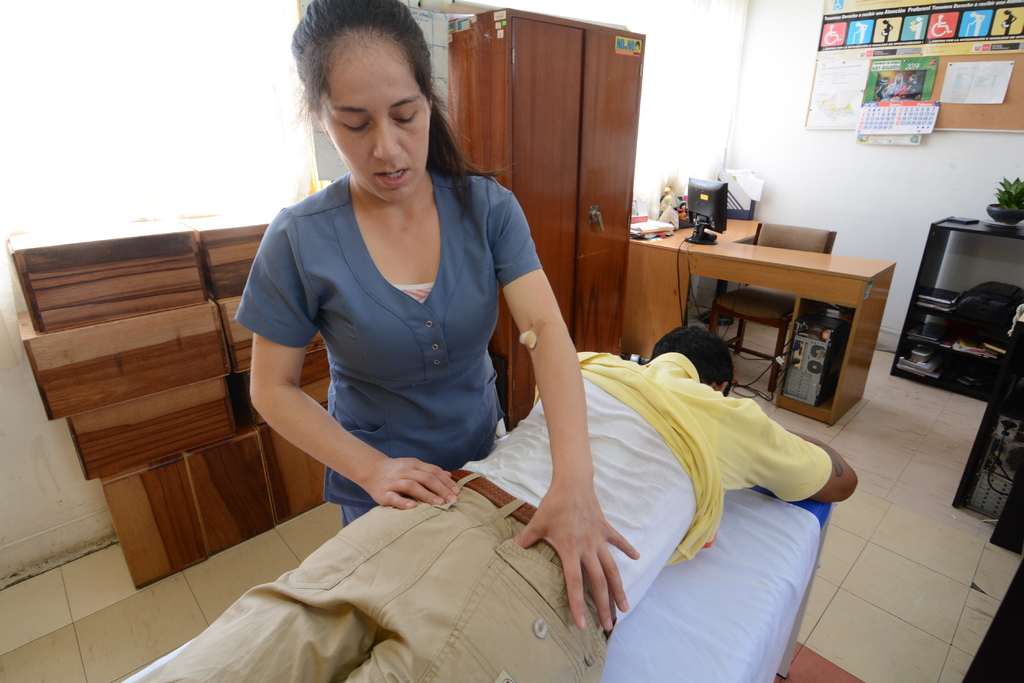Person: (120, 324, 859, 682), (234, 0, 640, 630), (881, 74, 920, 100)
